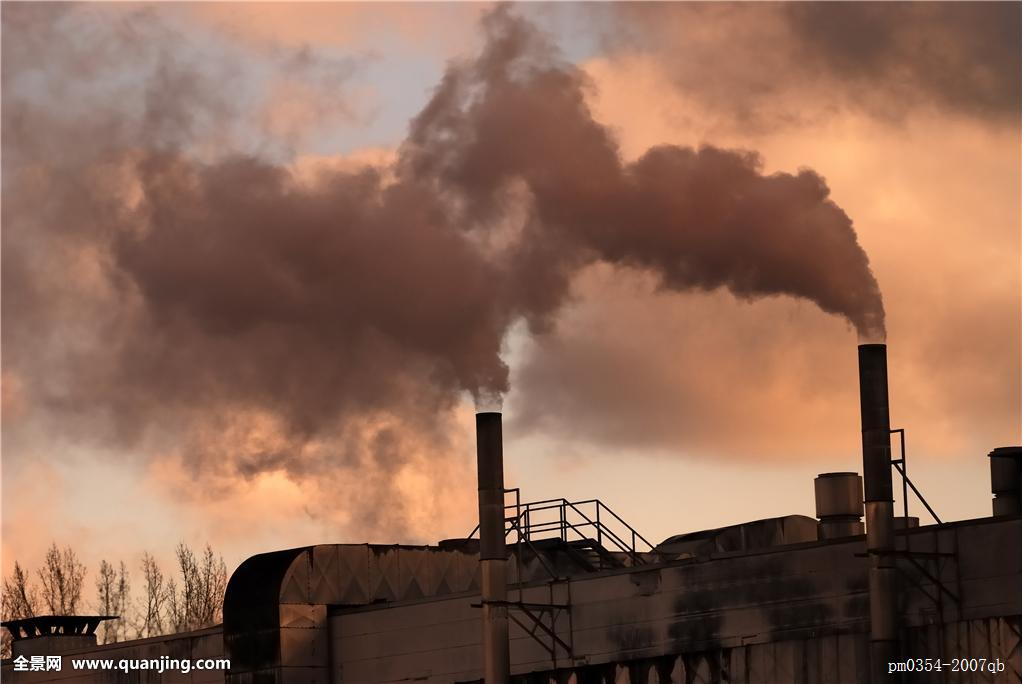dust: (651, 136, 912, 378), (363, 214, 521, 437)
